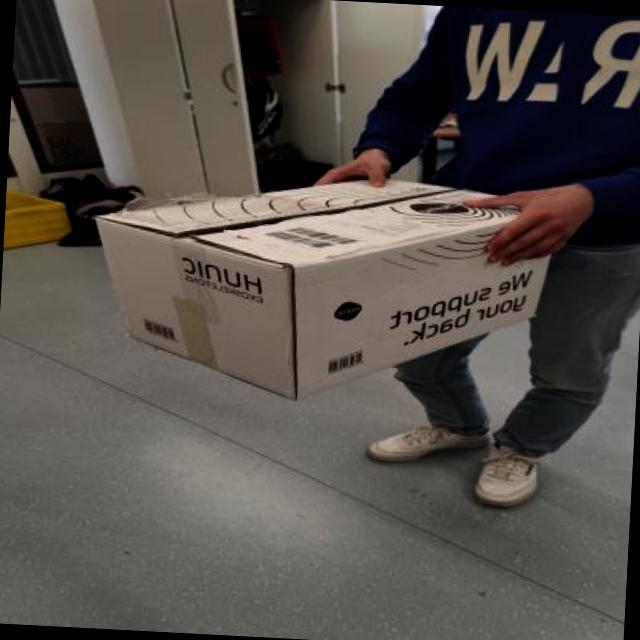box: (71, 153, 550, 423)
